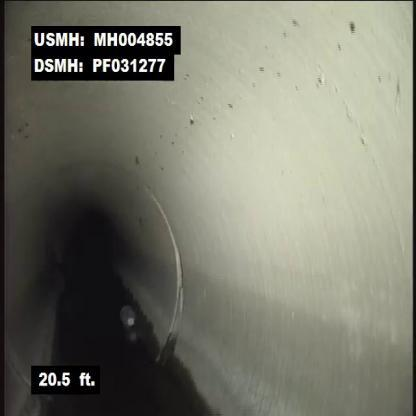jntoffs: (154, 198, 200, 376)
obsc: (103, 292, 147, 342)
